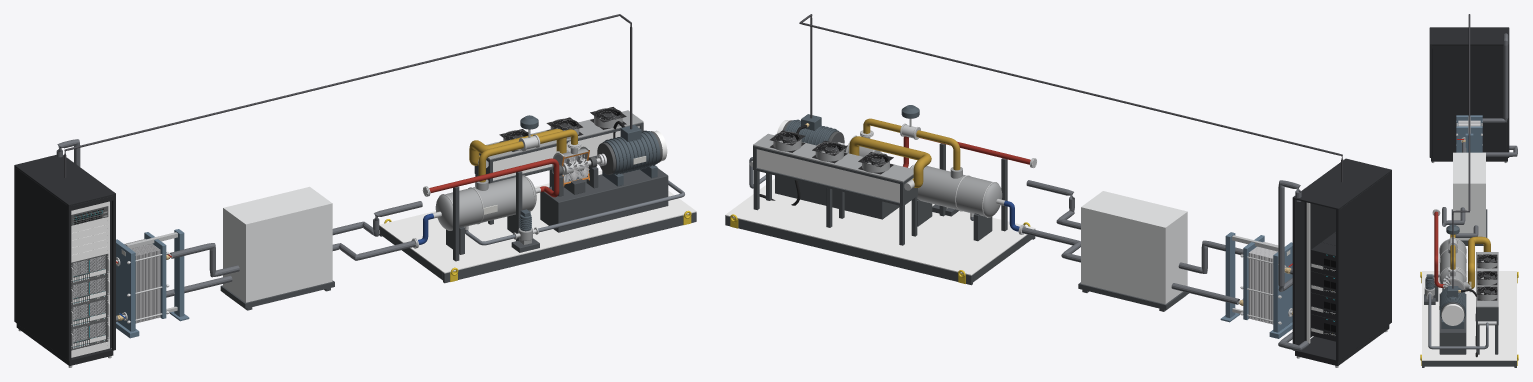
The model's file is orc-concept.glb.
3 views of the same model, side by side, from view 1: azimuth 30°, elevation 25°; view 2: azimuth 150°, elevation 25°; view 3: azimuth 270°, elevation 25° (orthographic). The views are drawn at different scales.
Visible parts, largest first — view 1: HP_Casing, Rack_Side-1, Skid_Deck, Pedestal, Rack_Roof, Skid_Rail-1, Evap_Shell, Flow_Power, HX_FixedPlate, Cond_Coil, Gen_Body, Flow_HotIn (+13 smaller); view 2: Skid_Deck, HP_Casing, Rack_Side-1, Cond_Coil, Rack_Roof, Skid_Rail1, Evap_Shell, Rack_Side1, Pedestal, Flow_Power, Cond_TopPlate, HX_FixedPlate (+15 smaller); view 3: Rack_Side1, Skid_Deck, HP_Casing, Rack_Roof, Flow_Power, Pedestal, Flow_ServerWarm, Evap_Shell, Skid_Cross4, Flow_Exhaust, Cond_TopPlate, HX_PressurePlate (+24 smaller).
Part boxes in pixels (left/top/right/bottom): HP_Casing: left=223, top=186, right=332, bottom=302; Rack_Side-1: left=16, top=168, right=67, bottom=359; Skid_Deck: left=379, top=170, right=696, bottom=273; Pedestal: left=540, top=168, right=668, bottom=232; Rack_Roof: left=14, top=155, right=115, bottom=205; Skid_Rail-1: left=443, top=212, right=696, bottom=283; Evap_Shell: left=445, top=176, right=534, bottom=227; Flow_Power: left=64, top=14, right=632, bottom=177; HX_FixedPlate: left=116, top=239, right=135, bottom=331; Cond_Coil: left=493, top=126, right=639, bottom=180; Gen_Body: left=602, top=131, right=660, bottom=175; Flow_HotIn: left=429, top=158, right=559, bottom=197; Skid_Deck: left=725, top=178, right=1035, bottom=275; HP_Casing: left=1081, top=191, right=1187, bottom=304; Rack_Side-1: left=1340, top=173, right=1390, bottom=360; Cond_Coil: left=757, top=149, right=899, bottom=202; Rack_Roof: left=1293, top=159, right=1391, bottom=209; Skid_Rail1: left=725, top=215, right=972, bottom=285; Evap_Shell: left=912, top=165, right=992, bottom=216; Rack_Side1: left=1296, top=201, right=1335, bottom=345; Pedestal: left=775, top=175, right=899, bottom=219; Flow_Power: left=799, top=14, right=1343, bottom=182; Cond_TopPlate: left=753, top=133, right=913, bottom=182; HX_FixedPlate: left=1273, top=242, right=1292, bottom=332; Rack_Side1: left=1432, top=45, right=1506, bottom=157; Skid_Deck: left=1422, top=271, right=1516, bottom=360; HP_Casing: left=1453, top=152, right=1485, bottom=240; Rack_Roof: left=1429, top=27, right=1509, bottom=45; Flow_Power: left=1452, top=14, right=1470, bottom=288; Pedestal: left=1439, top=293, right=1466, bottom=354; Flow_ServerWarm: left=1482, top=33, right=1508, bottom=122; Evap_Shell: left=1439, top=240, right=1466, bottom=275; Skid_Cross4: left=1424, top=361, right=1514, bottom=366; Flow_Exhaust: left=1468, top=236, right=1490, bottom=288; Cond_TopPlate: left=1476, top=252, right=1498, bottom=307; HX_PressurePlate: left=1456, top=126, right=1482, bottom=152.
Size of the model in its own units: 7.9 by 2.36 by 1.49.
